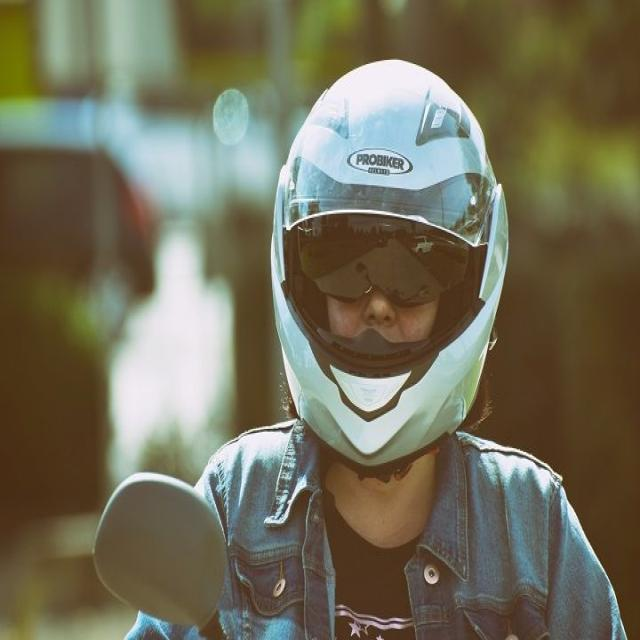Helm: (266, 53, 510, 472)
